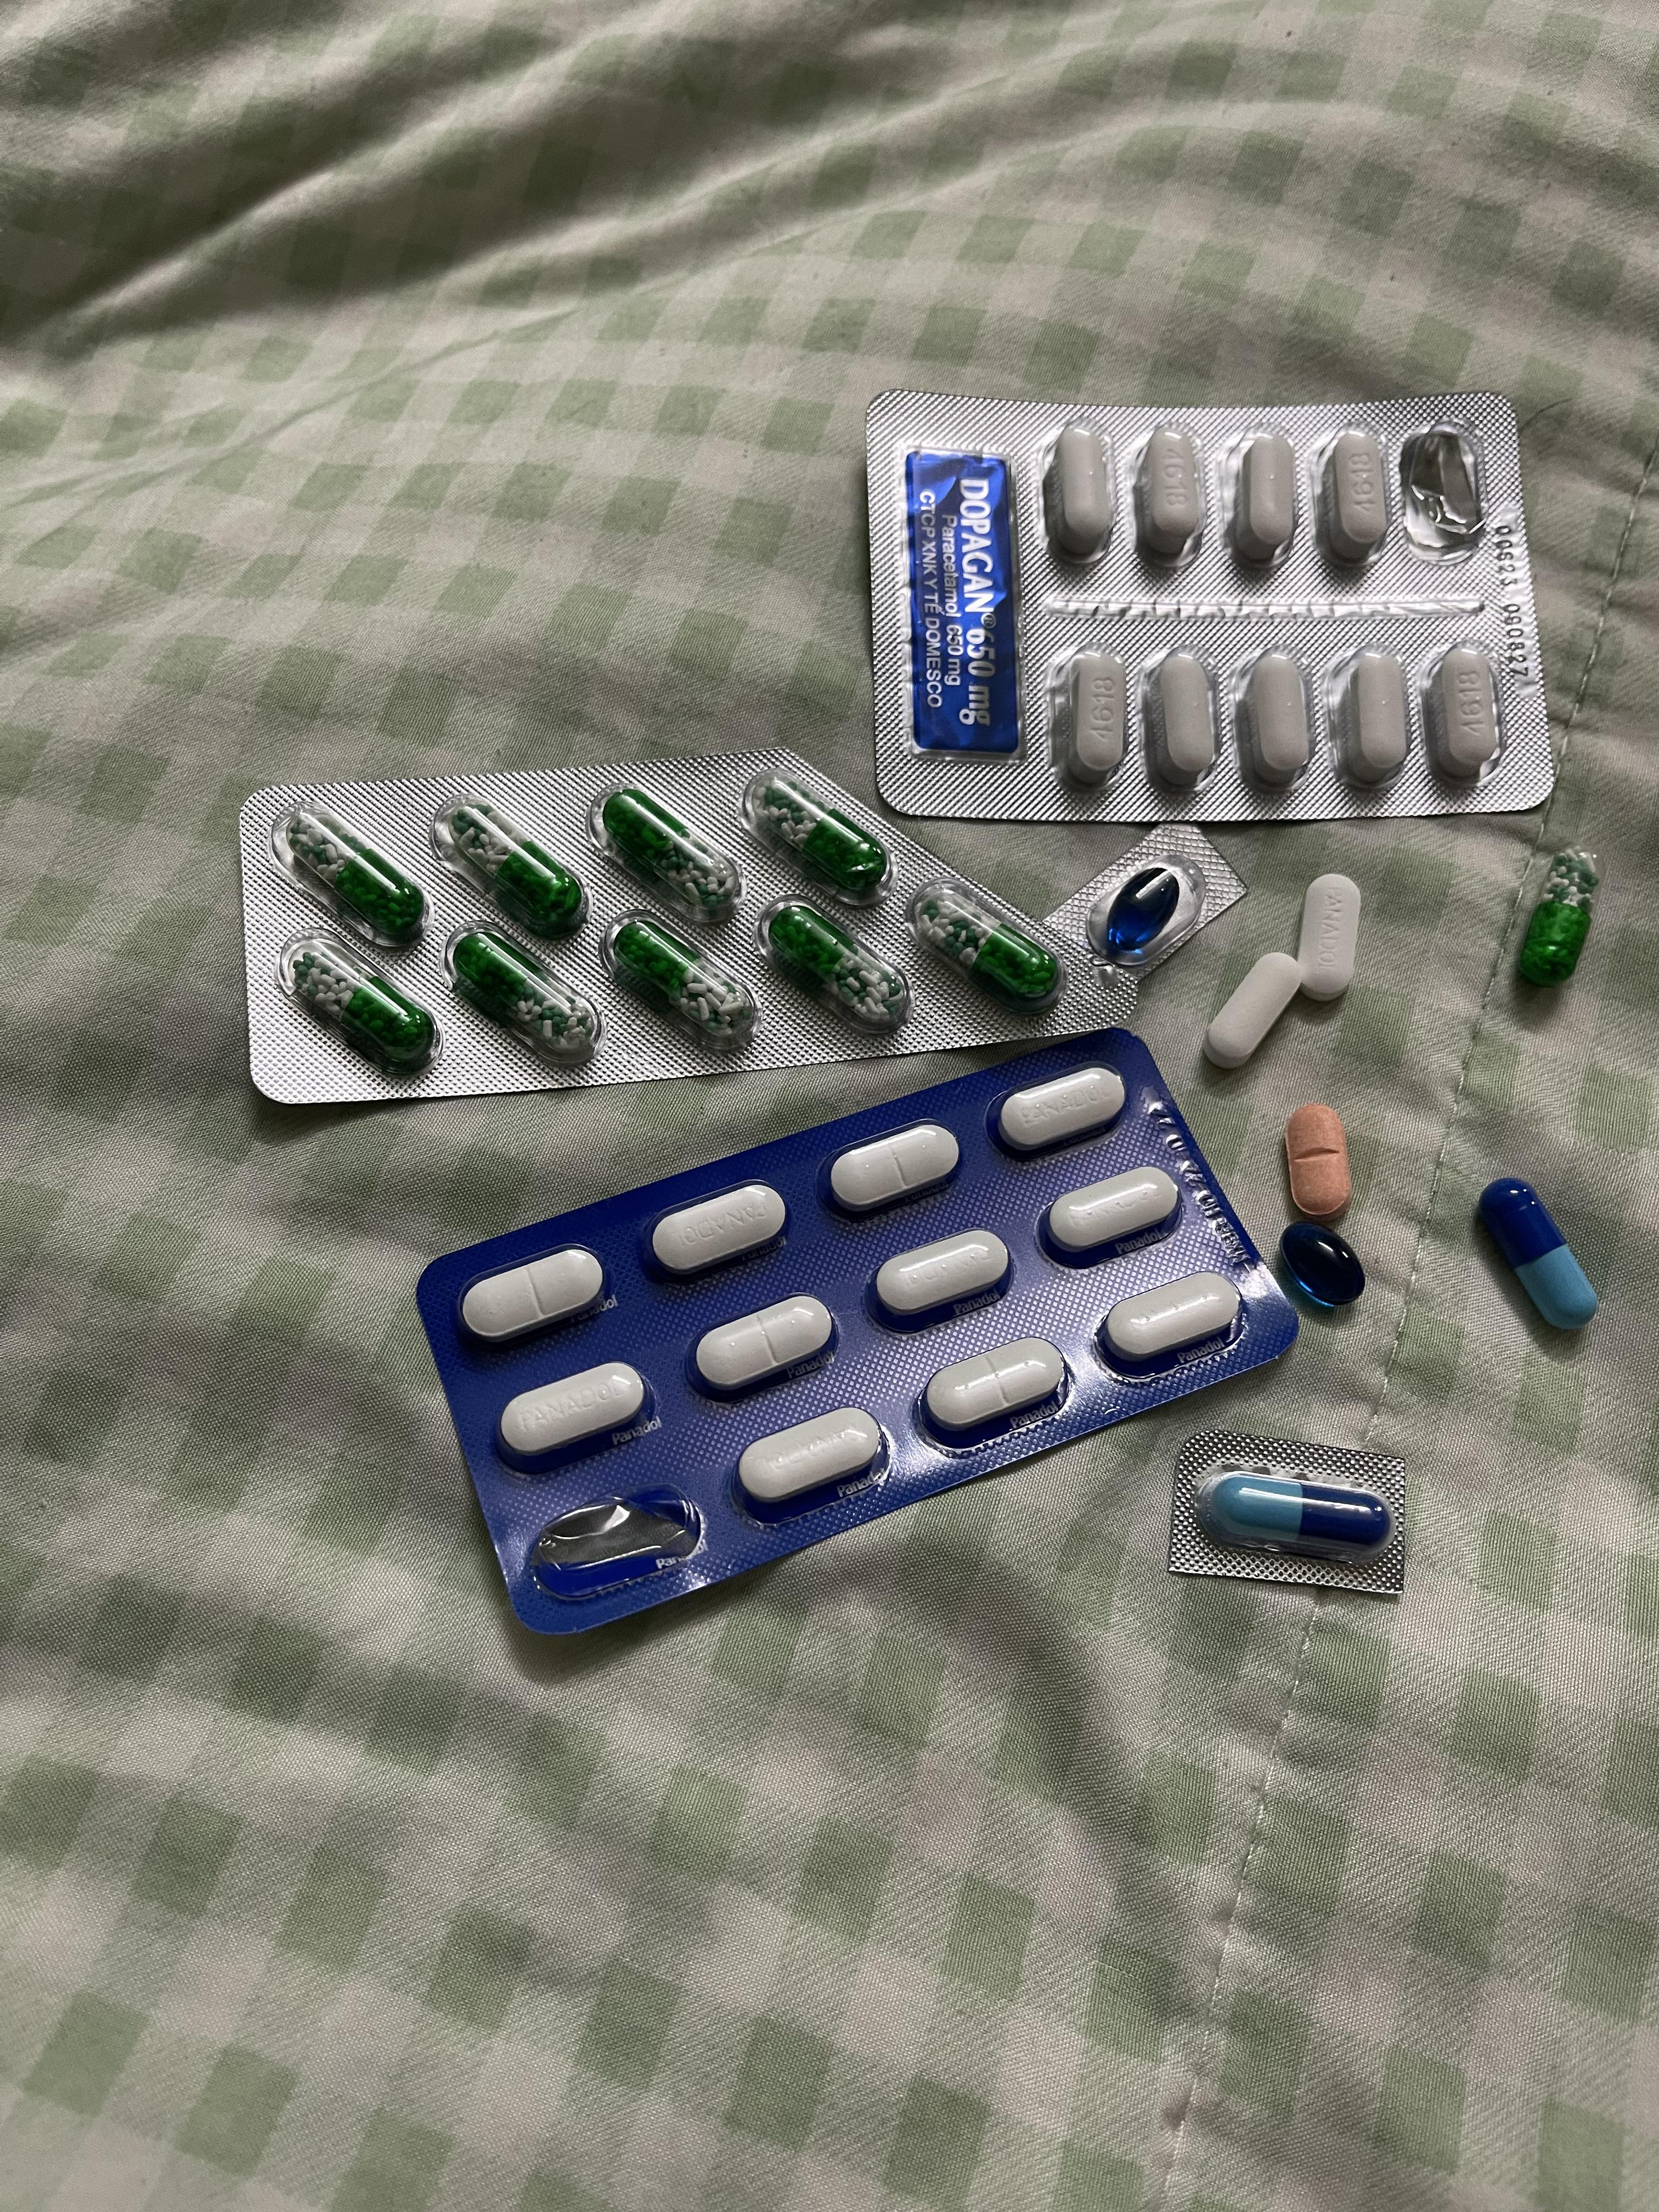Lincomyxin_500mg: (1279, 1219, 1370, 1306), (1103, 866, 1182, 954)
Loratadine_10mg: (1284, 1103, 1352, 1217)
Paracetamol_350mg: (500, 1360, 655, 1470), (735, 1407, 880, 1512), (460, 1247, 605, 1350), (695, 1296, 836, 1397), (650, 1184, 788, 1280), (924, 1338, 1061, 1432), (873, 1230, 1009, 1322), (1101, 1275, 1239, 1366), (826, 1122, 958, 1214), (1046, 1167, 1178, 1258), (997, 1066, 1122, 1151), (1297, 873, 1364, 1003)
Paracetamol_500mg: (1202, 951, 1304, 1068), (1330, 643, 1412, 786), (1236, 643, 1314, 786), (1143, 644, 1218, 787), (1425, 644, 1502, 780), (1314, 430, 1389, 563), (1061, 648, 1129, 787), (1042, 425, 1112, 559), (1229, 430, 1300, 559), (1136, 425, 1202, 557)
Paracetamol_650mg: (756, 895, 904, 1036), (291, 944, 436, 1068), (606, 789, 751, 911), (289, 815, 427, 942), (450, 806, 587, 932), (748, 775, 882, 902), (615, 913, 755, 1033), (917, 892, 1060, 1005), (450, 934, 586, 1049), (1516, 846, 1600, 988)
pill: (1480, 1177, 1601, 1331), (1201, 1468, 1398, 1562)
